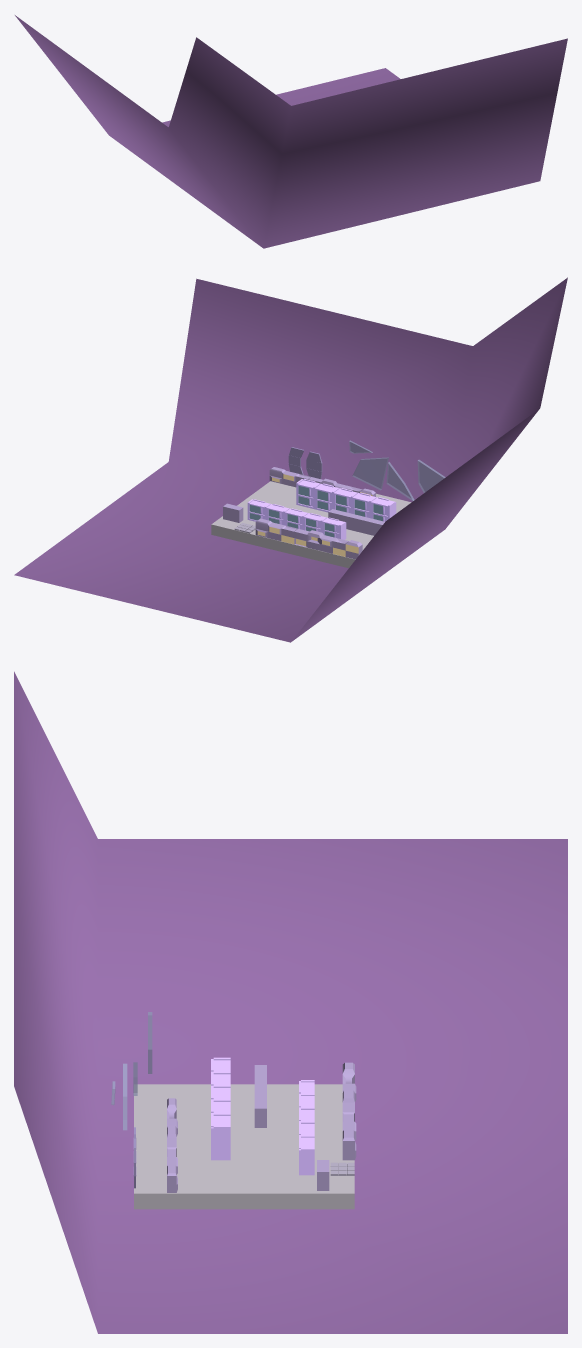
File: logistics.fbx
3 renders of one model, top to bottom at view 1: azimuth 30°, elevation 25°; view 2: azimuth 150°, elevation 25°; view 3: azimuth 270°, elevation 25°, orthographic. The views are drawn at different scales.
Parts seen in each view (by area): view 1: pCube122; view 2: pCube122, pCube106, polySurface12, polySurface23, polySurface1, pCube53, pCube113, polySurface31, pCube109; view 3: pCube122, pCube106, polySurface12, polySurface1, polySurface23, polySurface31, pCube113.
Part boxes in pixels (bbox=[...]): pCube122: bbox=[15, 15, 567, 248]; pCube122: bbox=[14, 277, 567, 642]; pCube106: bbox=[211, 481, 411, 568]; polySurface12: bbox=[296, 478, 396, 521]; polySurface23: bbox=[255, 518, 362, 559]; polySurface1: bbox=[247, 499, 346, 539]; pCube53: bbox=[352, 457, 388, 490]; pCube113: bbox=[328, 509, 384, 535]; polySurface31: bbox=[269, 467, 375, 496]; pCube109: bbox=[417, 459, 445, 492]; pCube122: bbox=[14, 671, 567, 1333]; pCube106: bbox=[134, 1084, 354, 1209]; polySurface12: bbox=[211, 1057, 230, 1160]; polySurface1: bbox=[299, 1080, 314, 1175]; polySurface23: bbox=[342, 1062, 356, 1160]; polySurface31: bbox=[167, 1098, 177, 1192]; pCube113: bbox=[254, 1065, 266, 1127].
Size of the model in its own units: 27.55 by 18.06 by 23.41.
